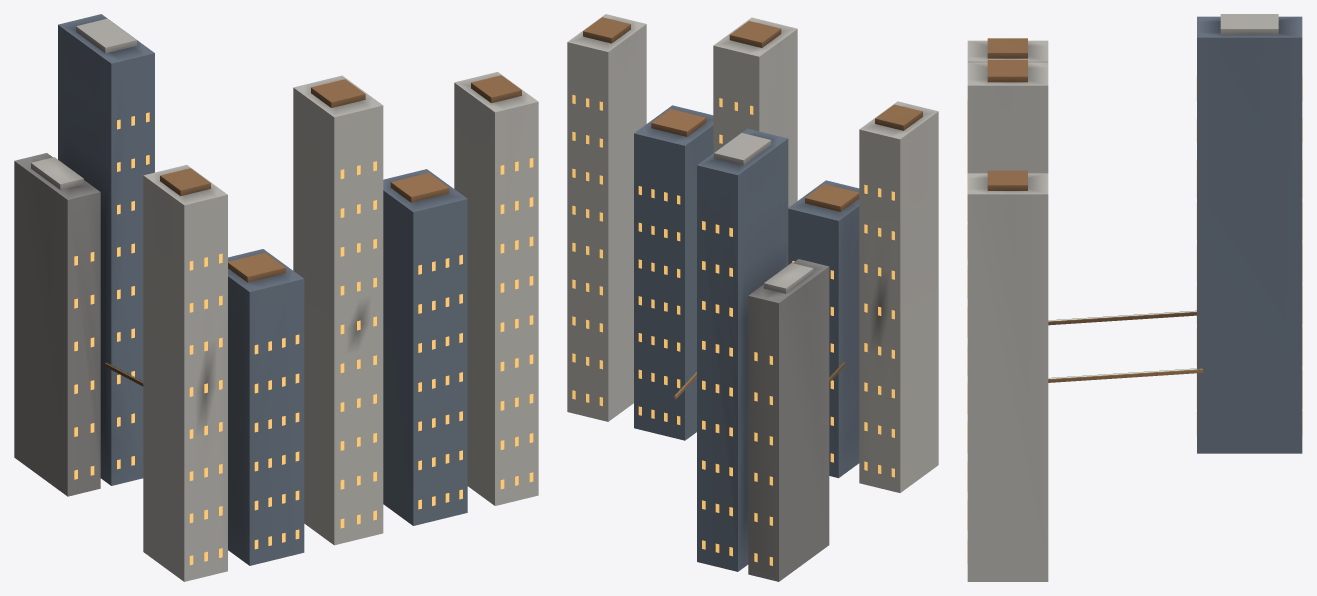
The model's file is 02_skyline_street.glb.
3 views of the same model, side by side, from view 1: azimuth 30°, elevation 25°; view 2: azimuth 150°, elevation 25°; view 3: azimuth 270°, elevation 25° (orthographic). The views are drawn at different scales.
Visible parts, largest first — view 1: skyline_street_concrete, skyline_street_glasstower, skyline_street_concretedark, skyline_street_windowwarm_nocol, skyline_street_steelrust; view 2: skyline_street_concrete, skyline_street_glasstower, skyline_street_concretedark, skyline_street_windowwarm_nocol, skyline_street_steelrust; view 3: skyline_street_glasstower, skyline_street_concrete, skyline_street_steelrust, skyline_street_steelrust_nocol, skyline_street_windowwarm_nocol.
Part boxes in pixels (x1,y1,x2,y2): skyline_street_concrete: (31,18,538,581); skyline_street_glasstower: (58,14,467,565); skyline_street_concretedark: (14,153,100,496); skyline_street_windowwarm_nocol: (74,112,533,565); skyline_street_steelrust: (160,75,521,282); skyline_street_concrete: (567,14,938,492); skyline_street_glasstower: (634,105,859,571); skyline_street_concretedark: (748,259,829,581); skyline_street_windowwarm_nocol: (572,95,894,565); skyline_street_steelrust: (583,17,922,211); skyline_street_glasstower: (1197,16,1302,453); skyline_street_concrete: (967,14,1278,581); skyline_street_steelrust: (987,38,1027,190); skyline_street_steelrust_nocol: (1048,311,1203,382); skyline_street_windowwarm_nocol: (967,76,1302,563).
Size of the model in its own units: 130 by 152 by 108.
